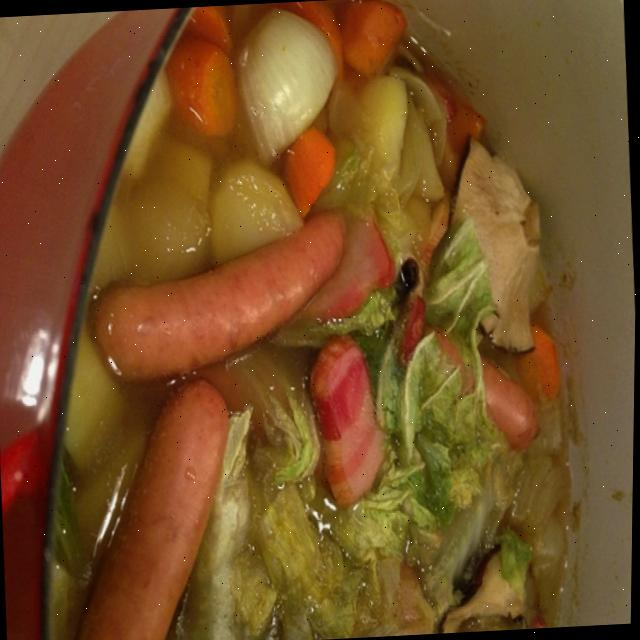汤锅炖物: (14, 0, 620, 640)
